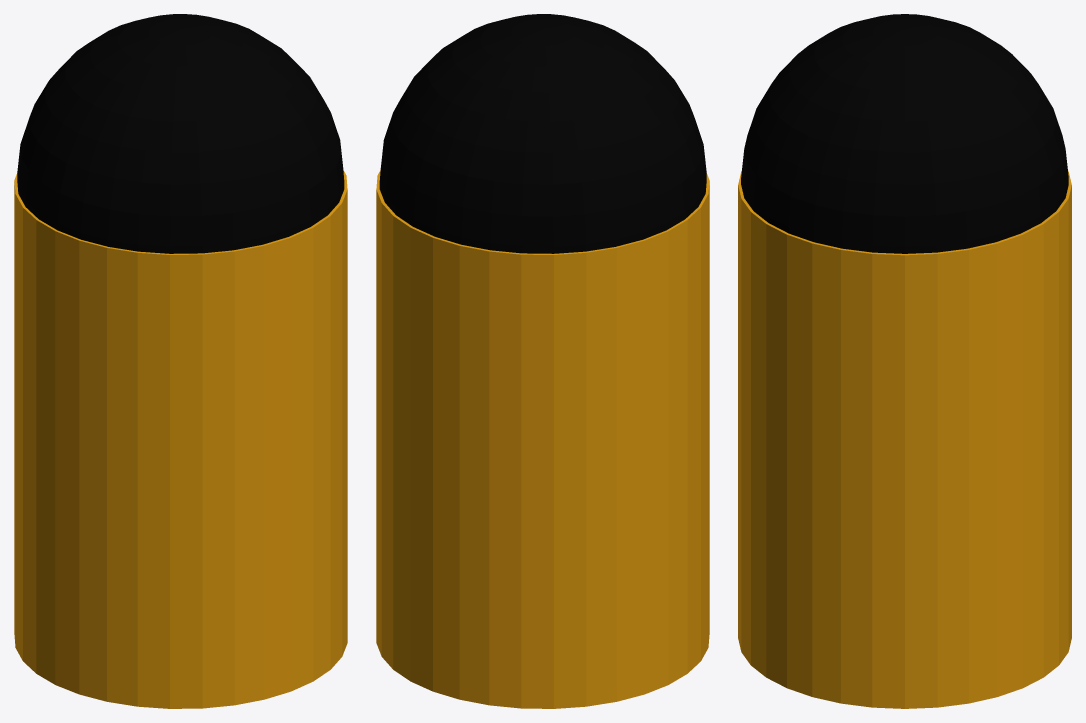
File: pistol bullet_case.fbx
3 renders of one model, left to right at view 1: azimuth 30°, elevation 25°; view 2: azimuth 150°, elevation 25°; view 3: azimuth 270°, elevation 25°, orthographic.
Parts seen in each view (by area): view 1: Case, bullet; view 2: Case, bullet; view 3: Case, bullet.
Boxes of the visible parts, x1=… form: Case: x1=14, y1=170, x2=347, y2=708; bullet: x1=17, y1=14, x2=344, y2=253; Case: x1=376, y1=170, x2=709, y2=708; bullet: x1=379, y1=14, x2=706, y2=253; Case: x1=738, y1=170, x2=1071, y2=708; bullet: x1=741, y1=14, x2=1068, y2=253.
Size of the model in its own units: 100 by 201 by 100.
